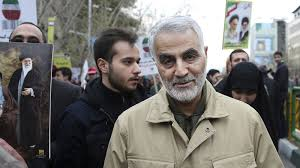middle_eastern_male: (155, 20, 209, 100)
